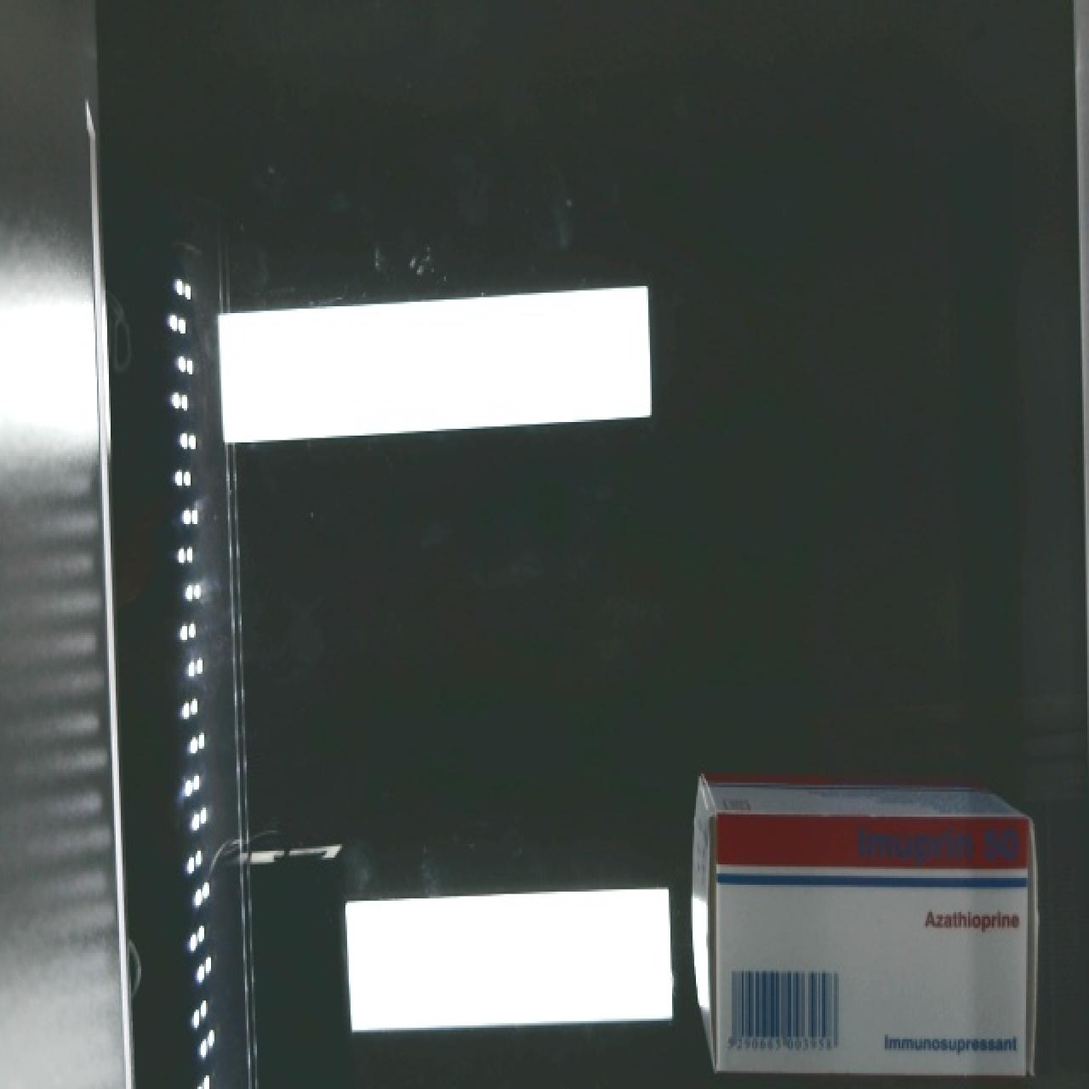medicine_label_obb: (842, 816, 1039, 887)
